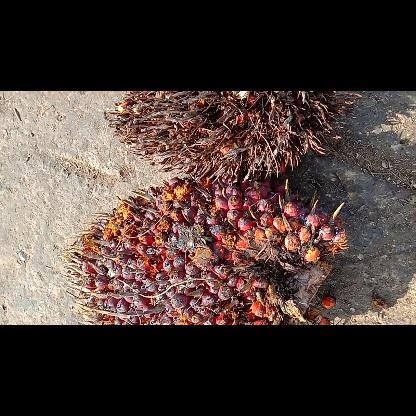TBS masak: (58, 176, 348, 324)
Terlalu masak: (107, 91, 351, 181)
